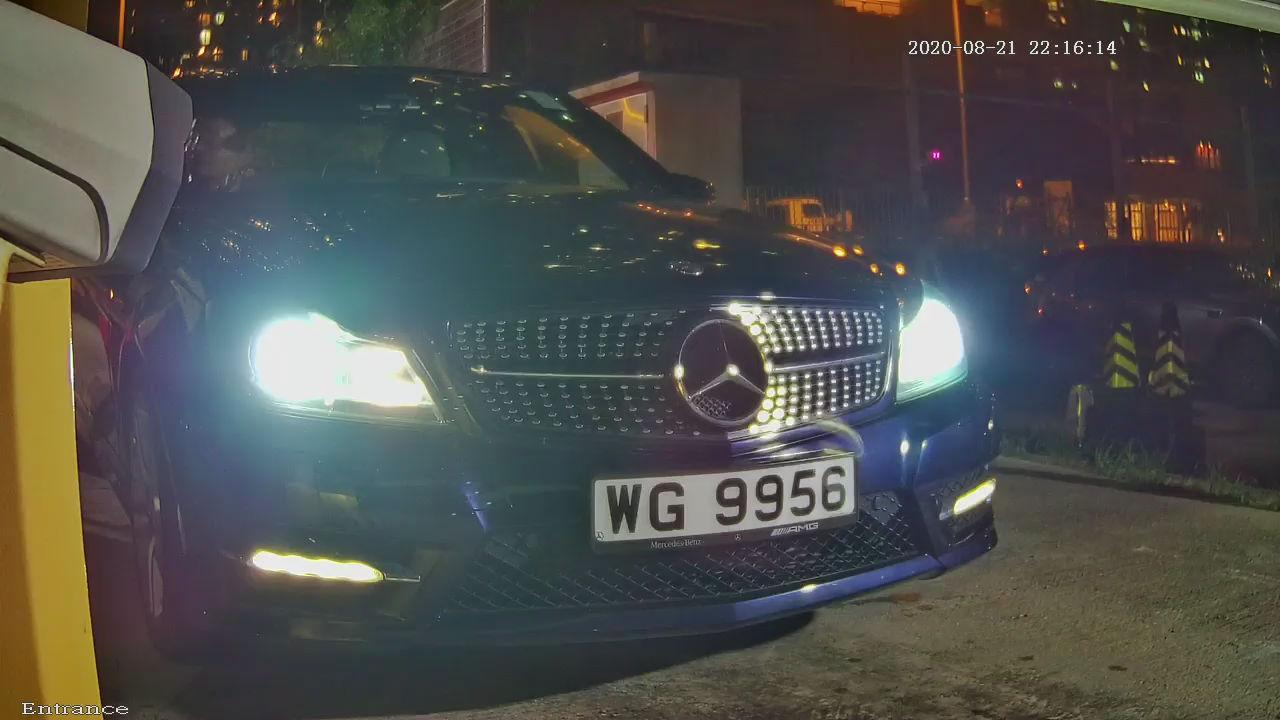License Plate: (568, 427, 885, 585)
